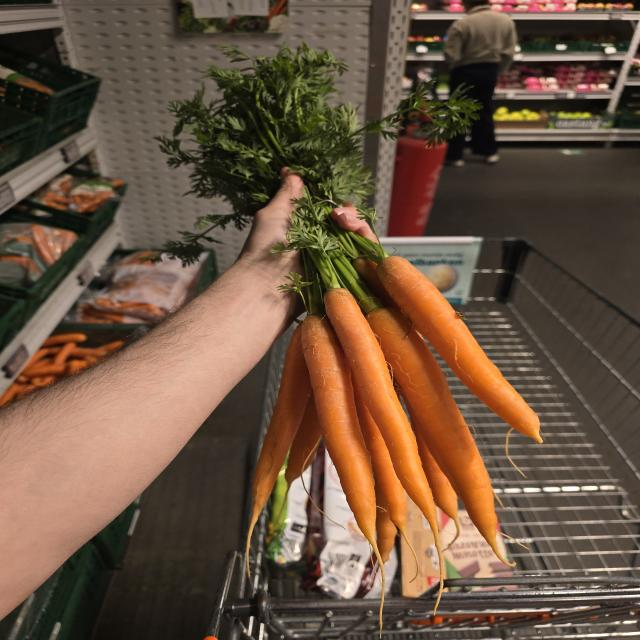Carrot: (376, 256, 543, 443), (366, 307, 497, 544), (325, 288, 438, 535), (302, 315, 380, 560), (249, 325, 312, 531)
